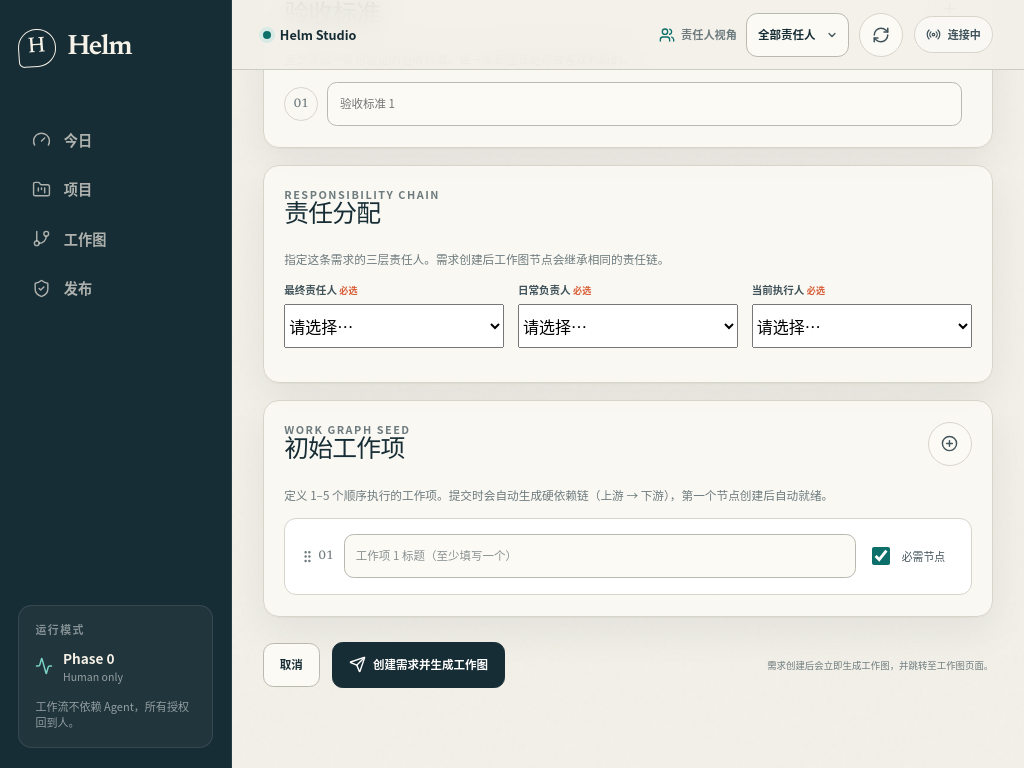
Test: Helm management dashboard › shows validation errors when required fields are missing on the new requirement form
The width and height of the screenshot is (1024, 768).
(page scrolled)
// Click submit without filling anything
Step 1. Click the button "创建需求并生成工作图" → (418, 665), box left=332, top=642, right=505, bottom=688
(page scrolled)
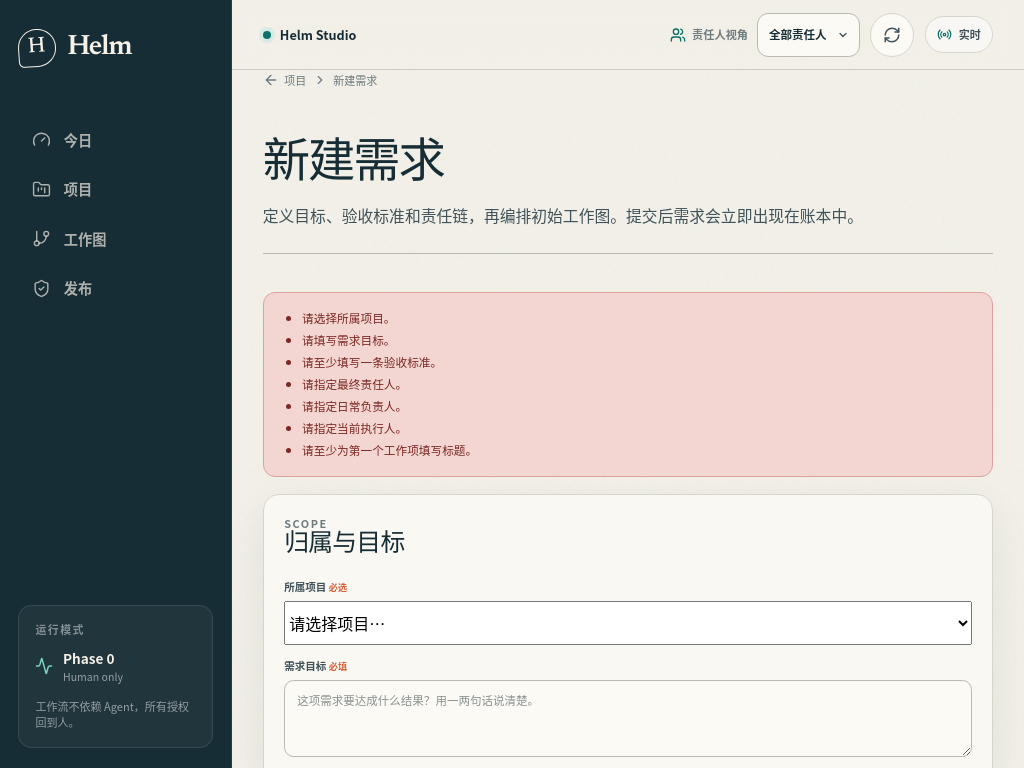
Check: the list item "请选择所属项目。" is shown, box left=302, top=309, right=396, bottom=326
Check: the list item "请填写需求目标。" is shown, box left=302, top=331, right=396, bottom=348
Check: the list item "请至少填写一条验收标准。" is shown, box left=302, top=353, right=442, bottom=370
